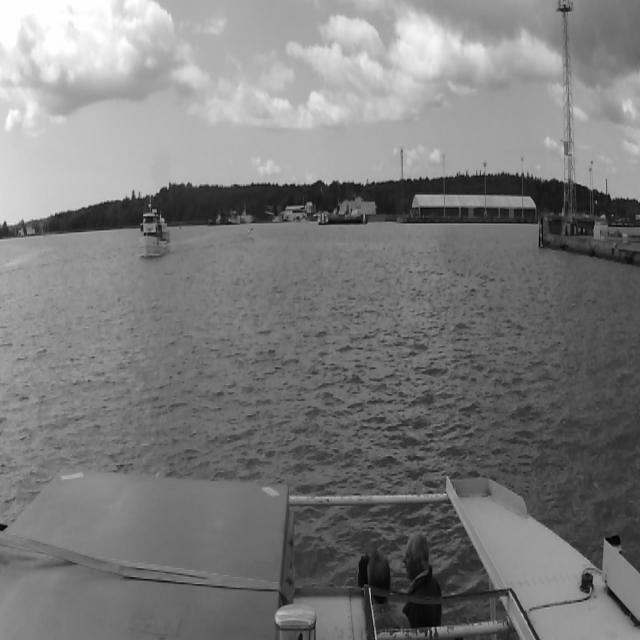ship: (139, 195, 171, 258), (238, 209, 252, 227), (248, 228, 254, 235)
